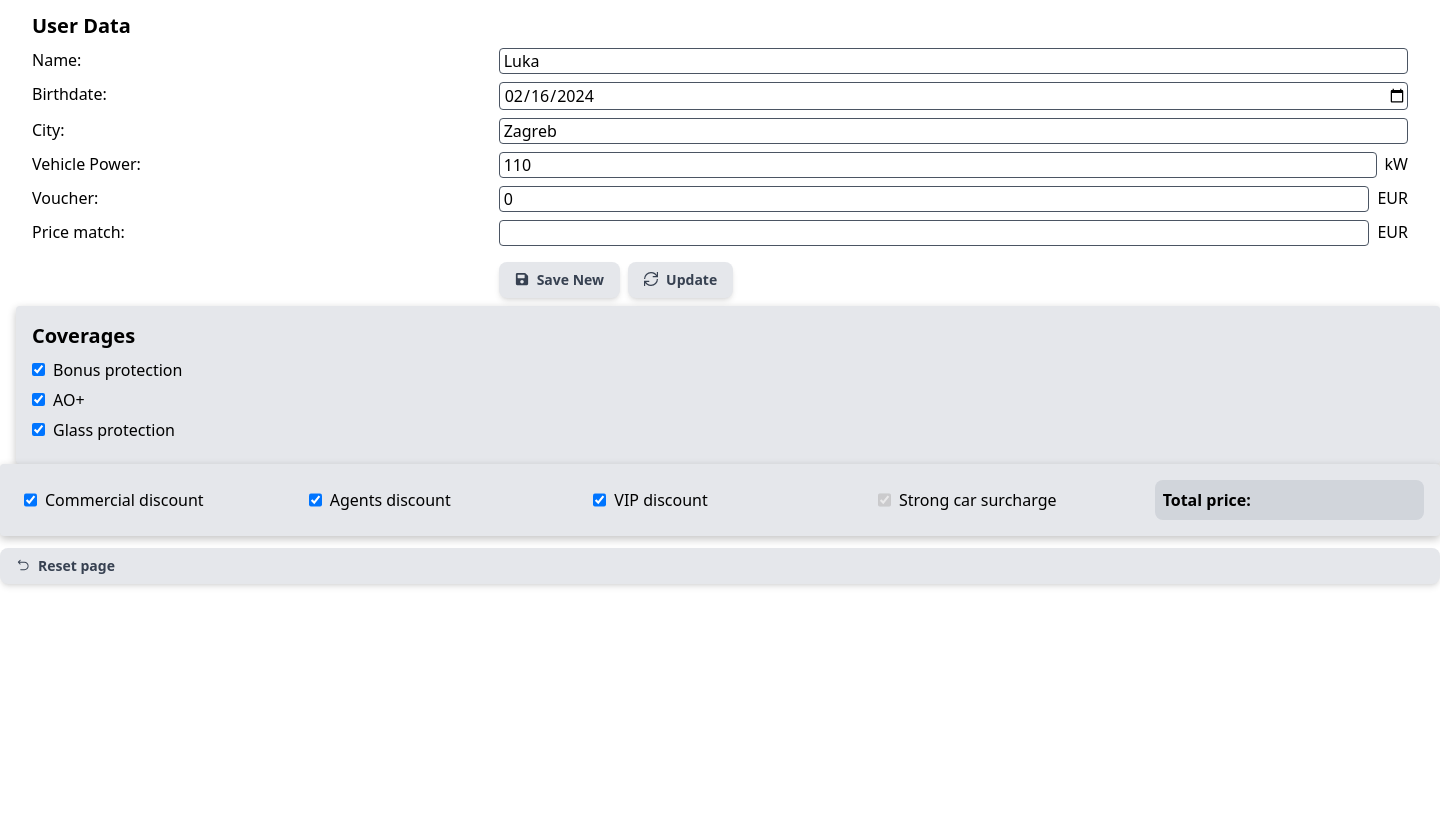
Test: All checkboxes should also reset after clicking 'Reset' button
Expected: the checkbox labelled "Bonus protection" is checked, [32, 363, 45, 376]
Expected: the checkbox labelled "AO+" is checked, [32, 393, 45, 406]
Click the text "Reset page": (65, 566) [16, 556, 115, 575]
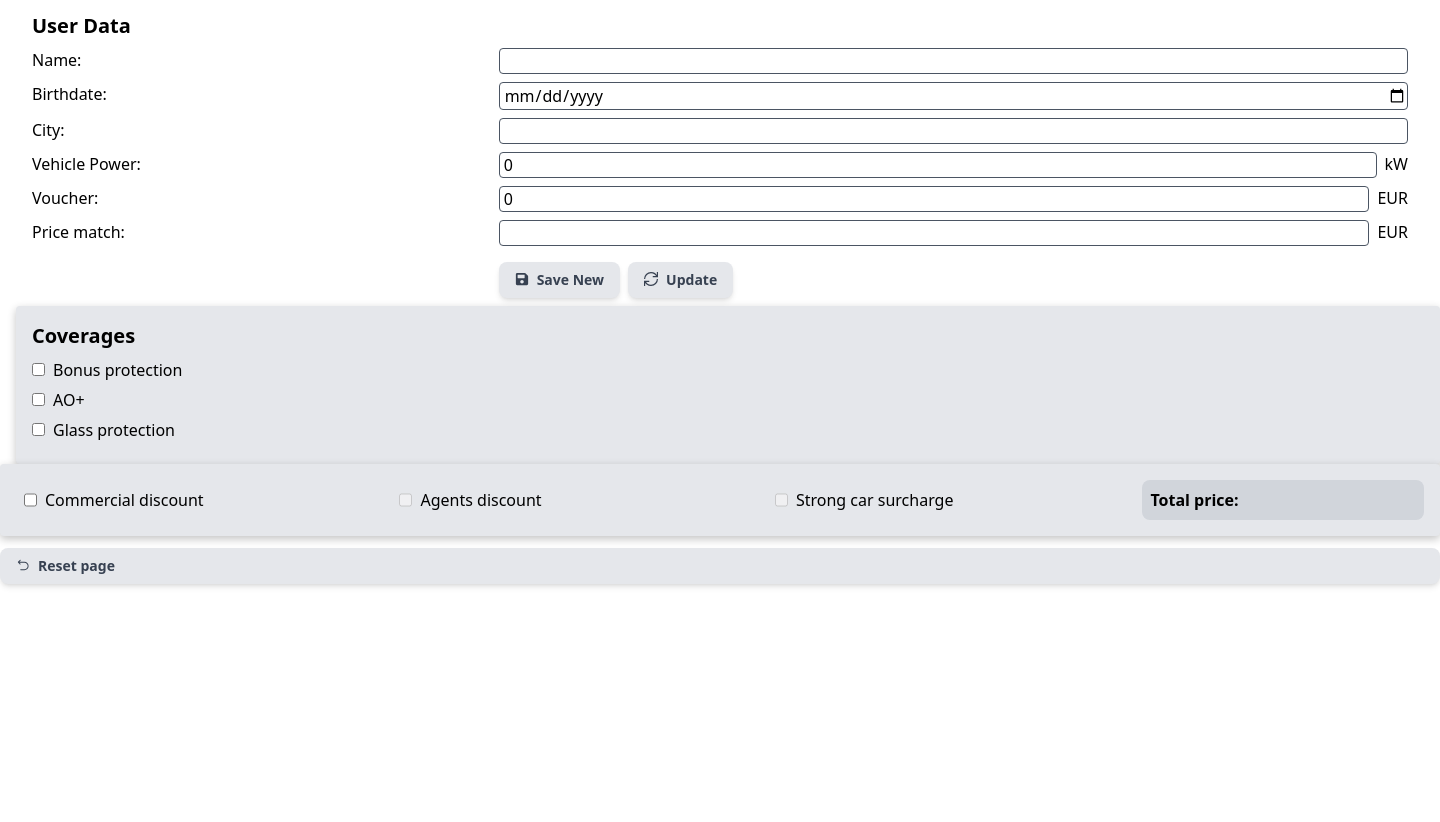
Expected: the checkbox labelled "Bonus protection" is not checked, [32, 363, 45, 376]
Expected: the checkbox labelled "AO+" is not checked, [32, 393, 45, 406]
Expected: the checkbox labelled "Glass protection" is not checked, [32, 423, 45, 436]
